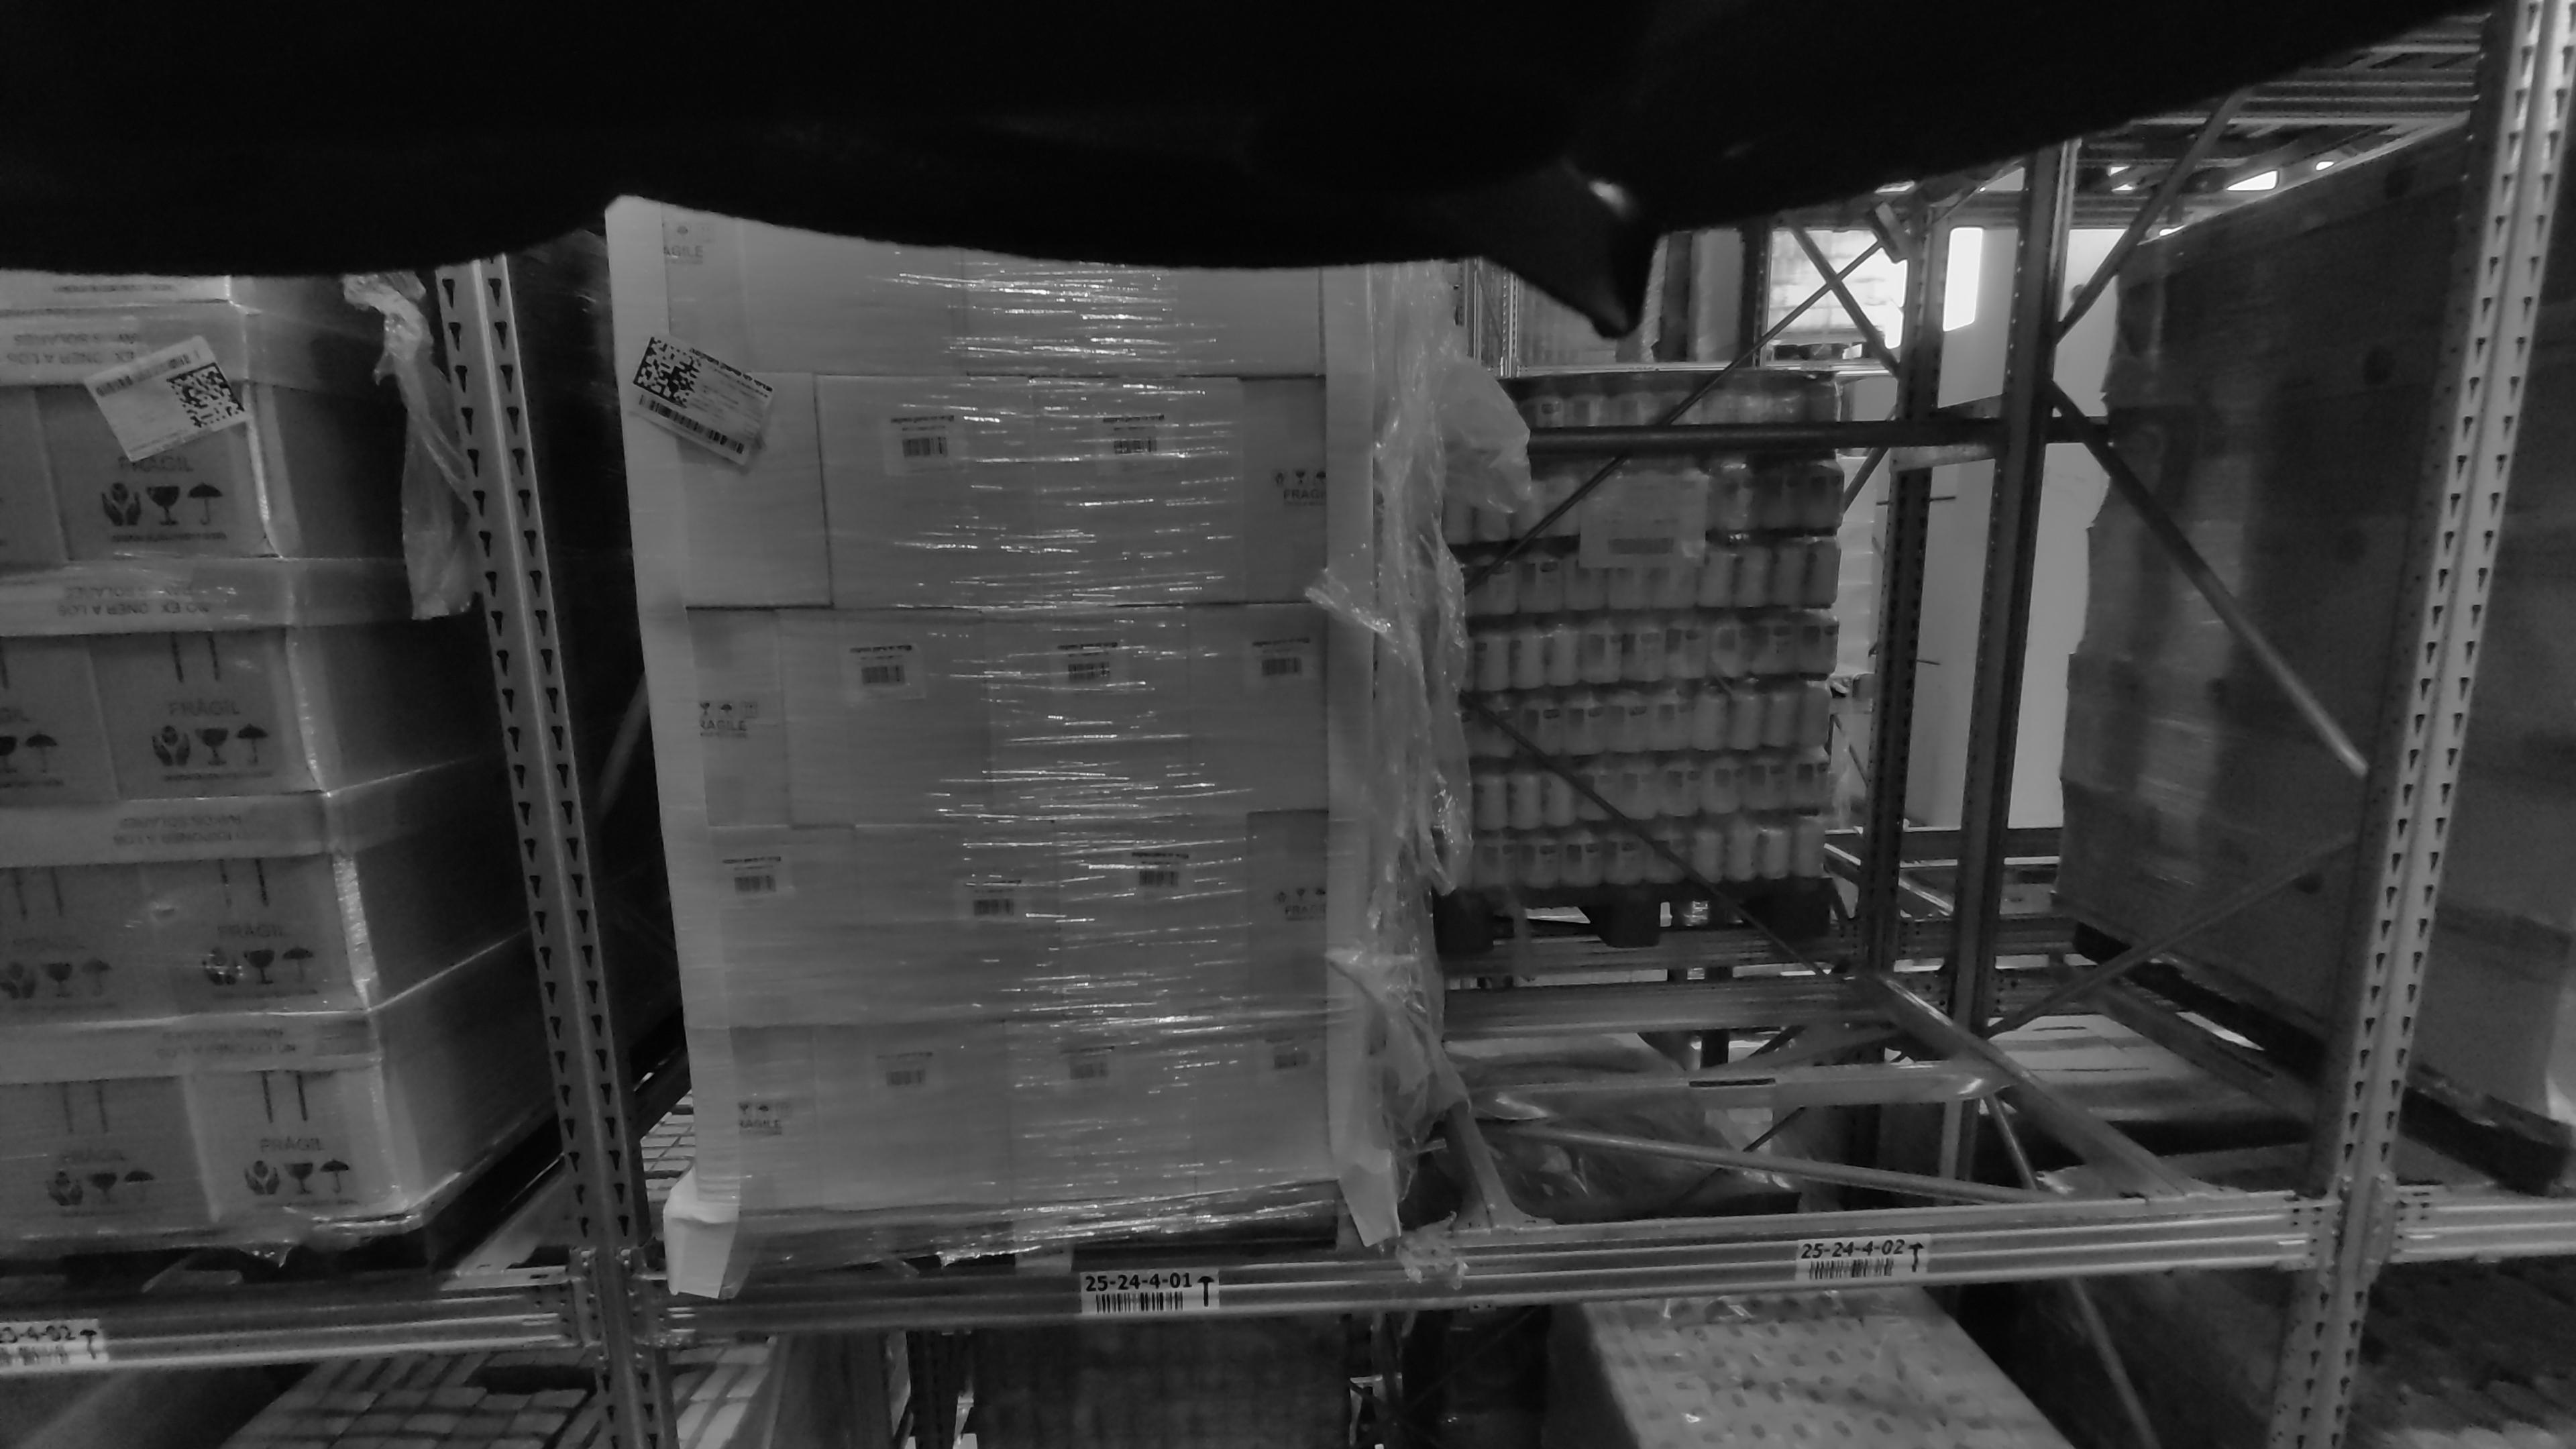empty-shelf: (1518, 154, 2134, 1205)
